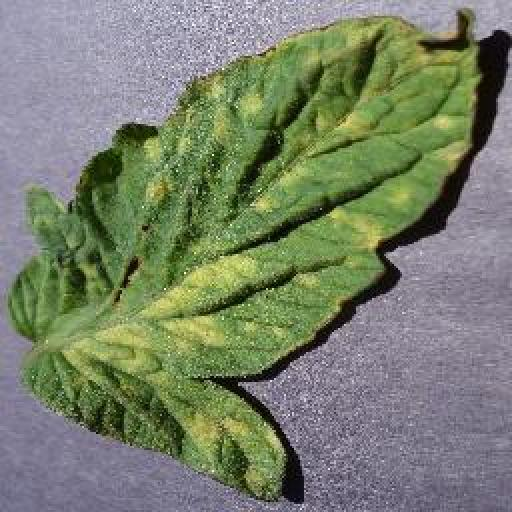disease_tomato: (14, 9, 484, 504)
